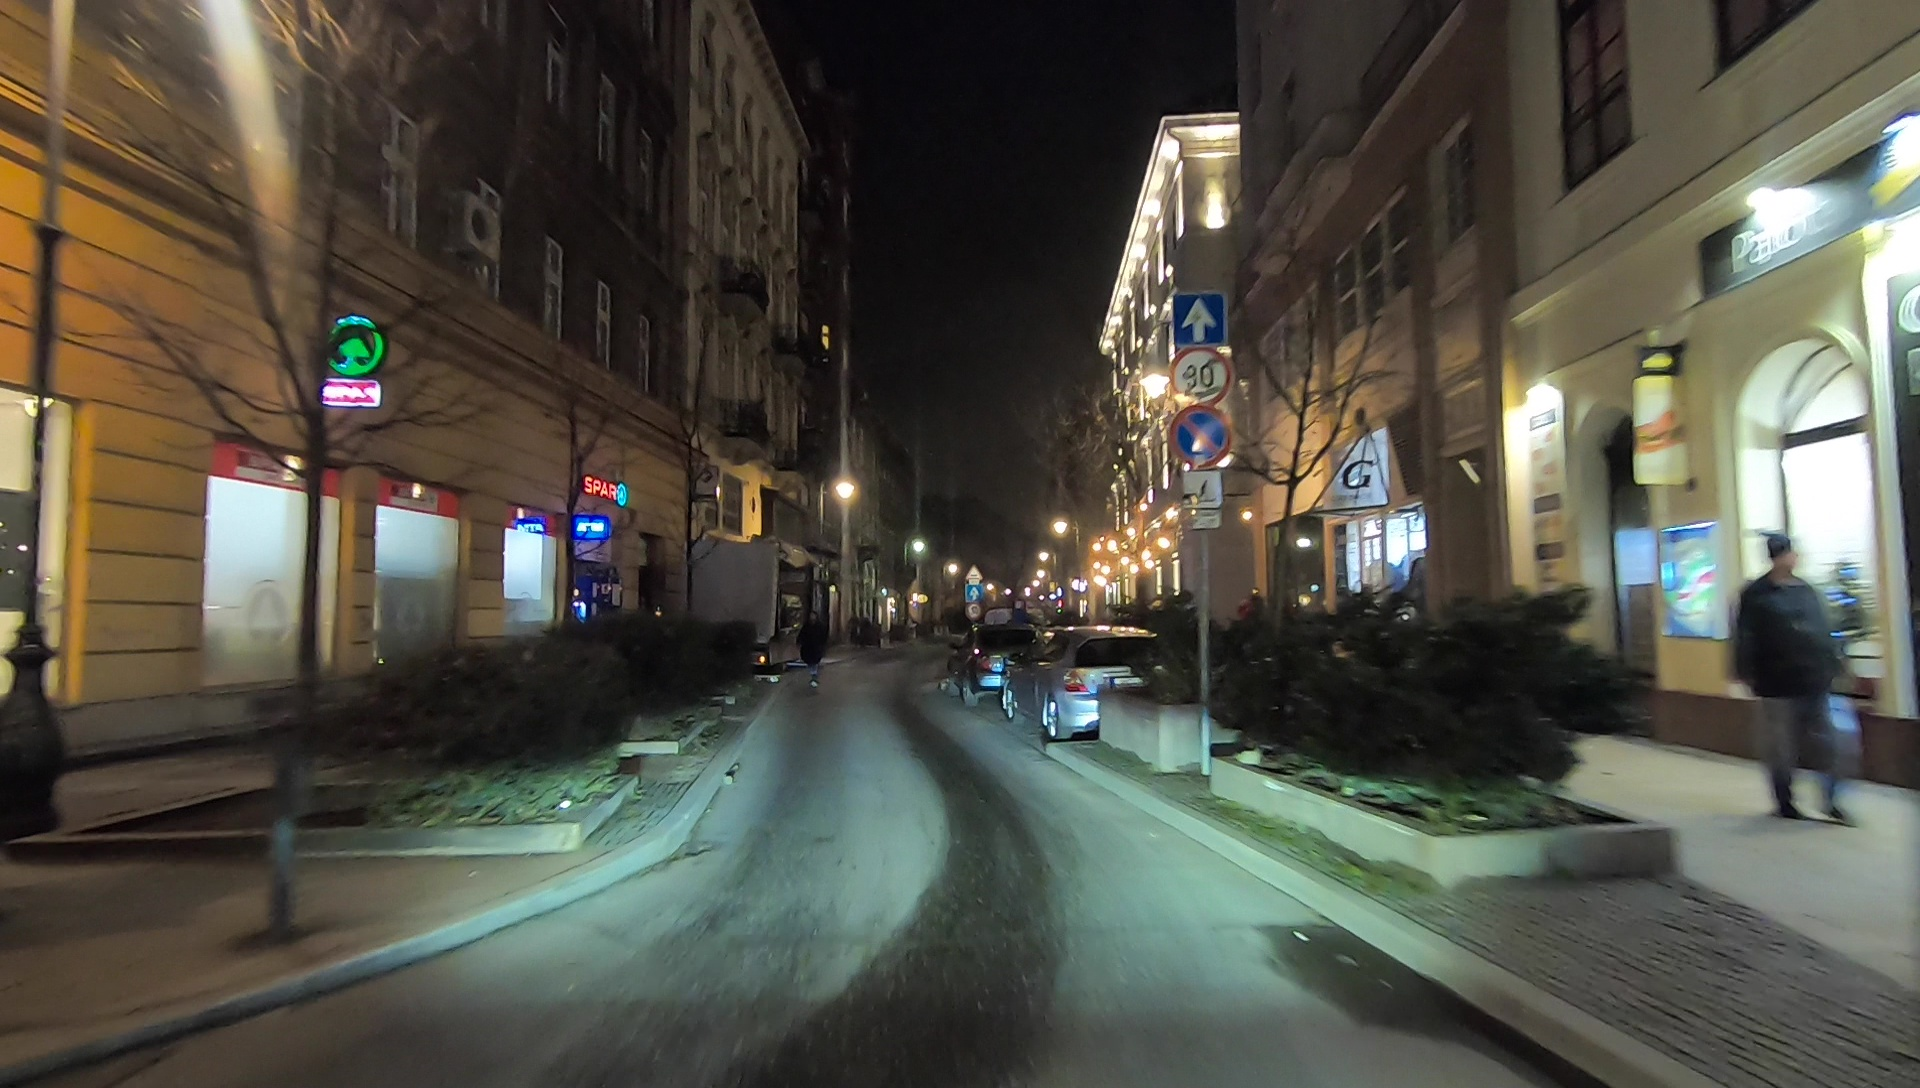person: (1725, 524, 1867, 828), (802, 608, 826, 691)
